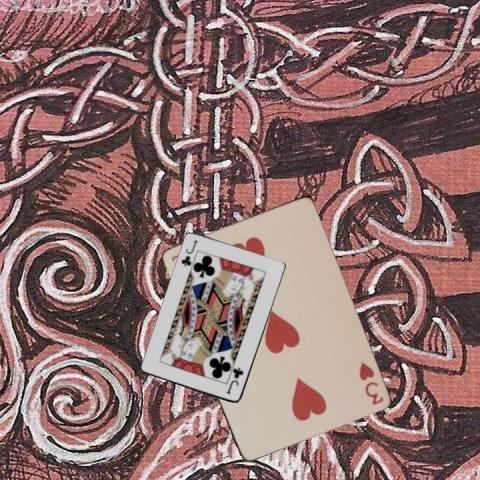3h: (355, 358, 385, 406)
Jc: (178, 237, 199, 268), (224, 365, 245, 395)
